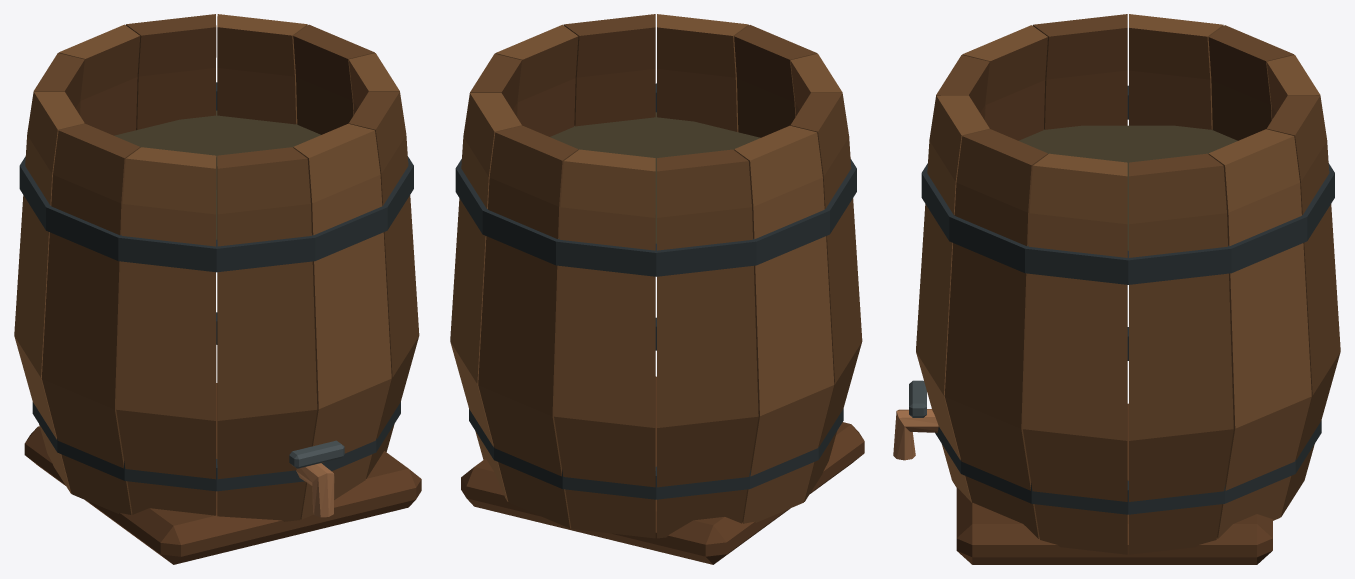
File: brewing_vat.glb
3 renders of one model, left to right at view 1: azimuth 30°, elevation 25°; view 2: azimuth 150°, elevation 25°; view 3: azimuth 270°, elevation 25°, orthographic. The views are drawn at different scales.
Parts seen in each view (by area): view 1: brewing_vat; view 2: brewing_vat; view 3: brewing_vat.
Part boxes in pixels (<box>): brewing_vat: <box>14,14,421,564</box>; brewing_vat: <box>450,14,864,564</box>; brewing_vat: <box>893,14,1340,564</box>.
Size of the model in its own units: 1.88 by 2 by 1.98.
